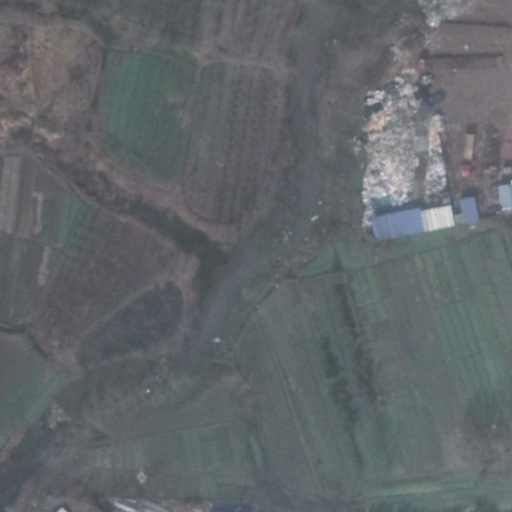msw: (357, 72, 452, 216)
